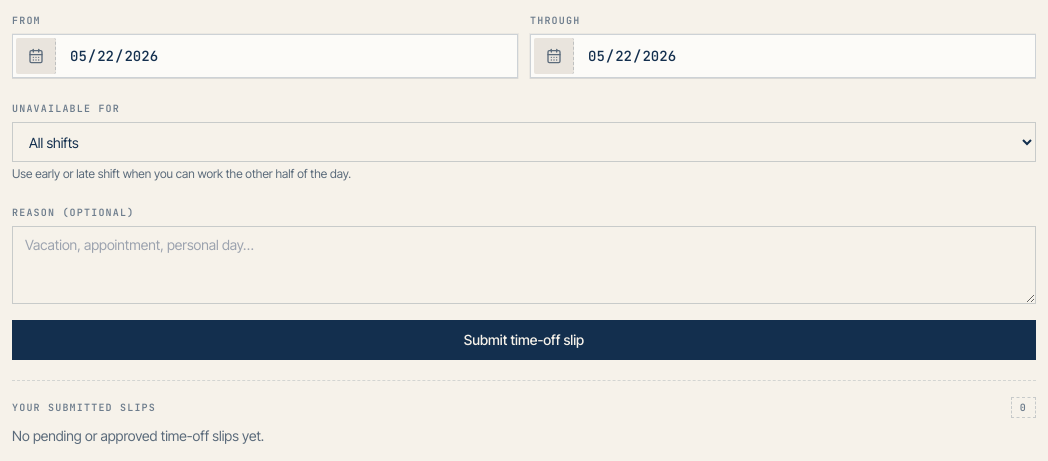
Scenario: TimeOffRequestForm › moves the through date to match the from date
The image size is (1048, 461).
Type "2026-05-31" into the date field labelled "From".
click(265, 56); type("2026-05-31")  # box [12, 34, 518, 78]
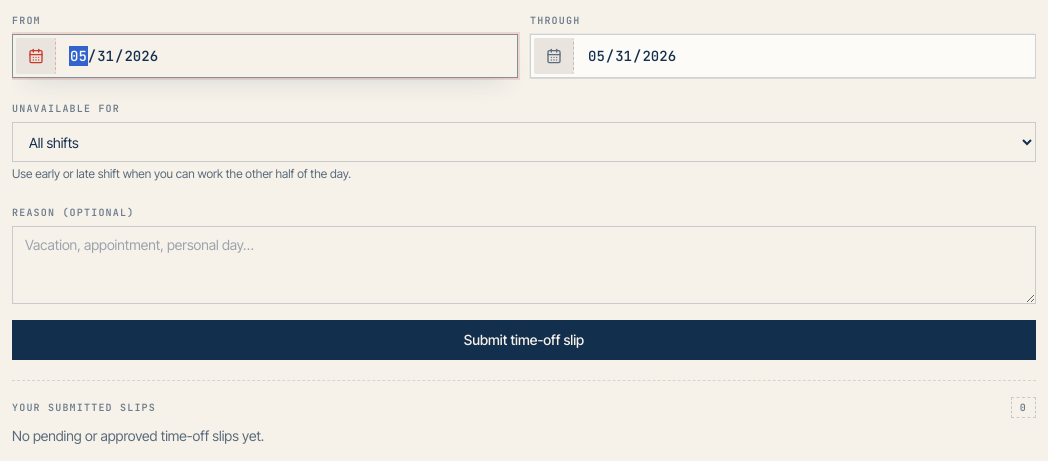
expect the date field labelled "Through" holds "2026-05-31": met, box [530, 34, 1036, 78]
